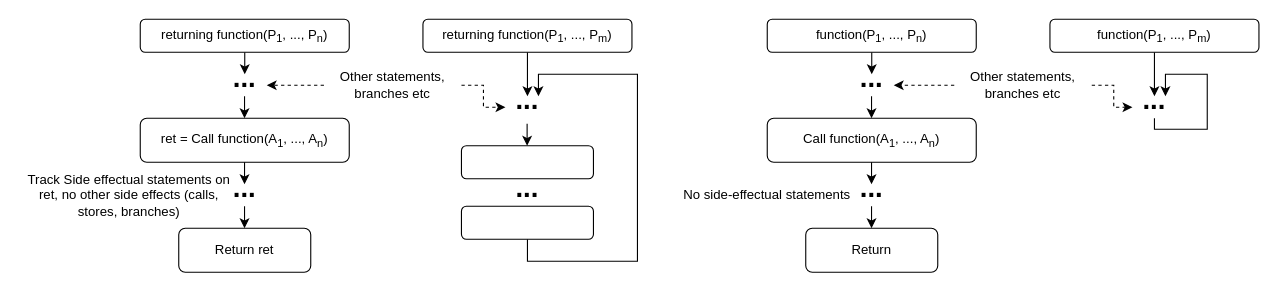
Some shapes in this 1278 by 292 pixel diagram are drawn without their labels. The shapes that lost their labels are listed below. From the top down, each one's box as (x1, y1, x2, y2) in pixels, then its label:
(460, 145, 593, 179): P 1 = A 1
(460, 205, 593, 239): P n = A n
